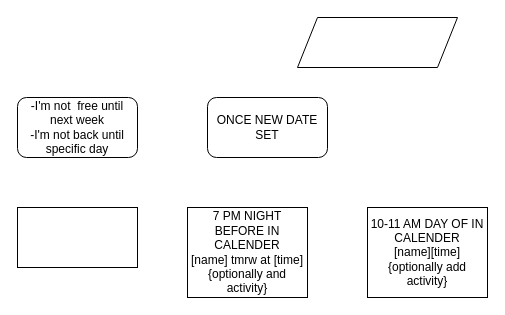
Some shapes in this 505 by 315 pixel diagram are drawn without their labels. The shapes that lost their labels are listed below. From the top down, each one's centre as x and y in pixels, then its label:
the point at 377,42: Calendar Management
the point at 77,237: [day before and day of being back/free] set[name]
